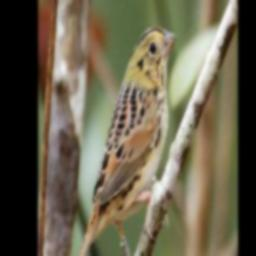Sparrow: (55, 20, 177, 256)
